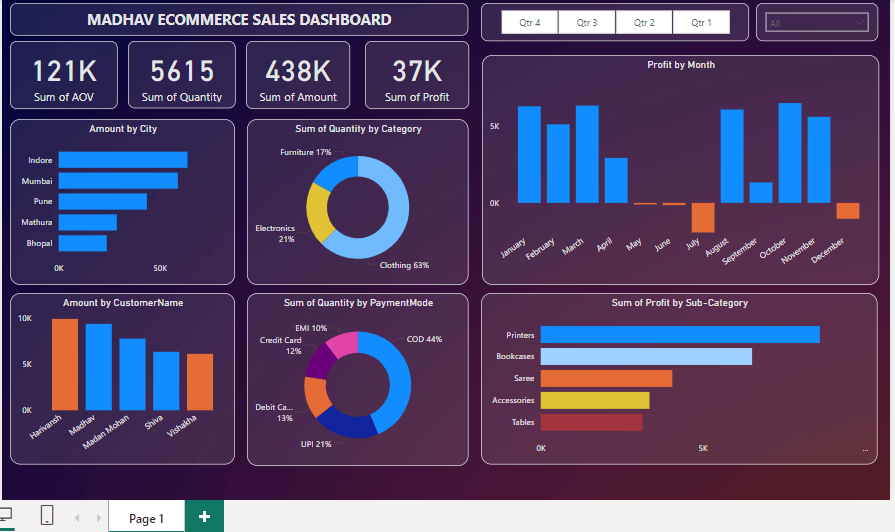

Layout of this report page (visuals, bound fields, positions):
{"tool":"powerbi","page":{"name":"Page 1","canvas":[1280,720],"ordinal":0},"visuals":[{"type":"textbox","box":[11.8,5,660.2,47],"z":0},{"type":"columnChart","title":"Profit by Month","fields":{"Y":["Details.Profit"],"Category":["Orders.Order Date.Variation.Date Hierarchy.Month"]},"box":[691.2,79.2,571.7,331.2],"z":1},{"type":"barChart","title":"Amount by City","fields":{"Category":["Orders.City"],"Y":["Details.Amount"]},"box":[11.8,171.3,324.2,238.5],"z":2},{"type":"donutChart","fields":{"Category":["Details.Category"],"Y":["Details.Quantity"]},"box":[352.8,171.3,319.2,238.5],"z":3},{"type":"donutChart","fields":{"Category":["Details.PaymentMode"],"Y":["Details.Quantity"]},"box":[352.8,421.6,319.2,248.6],"z":4},{"type":"card","fields":{"Values":["Details.Profit"]},"box":[522,59,150,97.9],"z":5},{"type":"card","fields":{"Values":["Details.Amount"]},"box":[352,59,150,97.9],"z":6},{"type":"card","fields":{"Values":["Details.Quantity"]},"box":[182,58.8,155,97.4],"z":7},{"type":"card","fields":{"Values":["Details.AOV"]},"box":[12,59,155,97.9],"z":8},{"type":"barChart","fields":{"Category":["Details.Sub-Category"],"Y":["Details.Profit"]},"box":[690.4,421.6,571.1,246.9],"z":9},{"type":"columnChart","title":"Amount by CustomerName","fields":{"Category":["Orders.CustomerName"],"Y":["Details.Amount"]},"box":[11.8,421.6,324.2,246.9],"z":10},{"type":"slicer","fields":{"Values":["Orders.Order Date.Variation.Date Hierarchy.Quarter"]},"box":[689.8,4.3,385.9,54.7],"z":11},{"type":"slicer","fields":{"Values":["Orders.State"]},"box":[1085.8,4.3,175.7,54.7],"z":12}]}

Visuals, with their boxes in screenshot pixels (x1, y1, x2, y2):
textbox: (x1=10, y1=3, x2=466, y2=36)
"Profit by Month" columnChart: (x1=479, y1=55, x2=873, y2=283)
"Amount by City" barChart: (x1=10, y1=118, x2=234, y2=283)
donutChart - Details.Category x Details.Quantity: (x1=246, y1=118, x2=466, y2=283)
donutChart - Details.PaymentMode x Details.Quantity: (x1=246, y1=291, x2=466, y2=462)
card - Details.Profit: (x1=362, y1=41, x2=466, y2=108)
card - Details.Amount: (x1=245, y1=41, x2=348, y2=108)
card - Details.Quantity: (x1=128, y1=41, x2=235, y2=108)
card - Details.AOV: (x1=11, y1=41, x2=117, y2=108)
barChart - Details.Sub-Category x Details.Profit: (x1=478, y1=291, x2=872, y2=461)
"Amount by CustomerName" columnChart: (x1=10, y1=291, x2=234, y2=461)
slicer - Orders.Order Date.Variation.Date Hierarchy.Quarter: (x1=478, y1=3, x2=744, y2=41)
slicer - Orders.State: (x1=751, y1=3, x2=872, y2=41)
